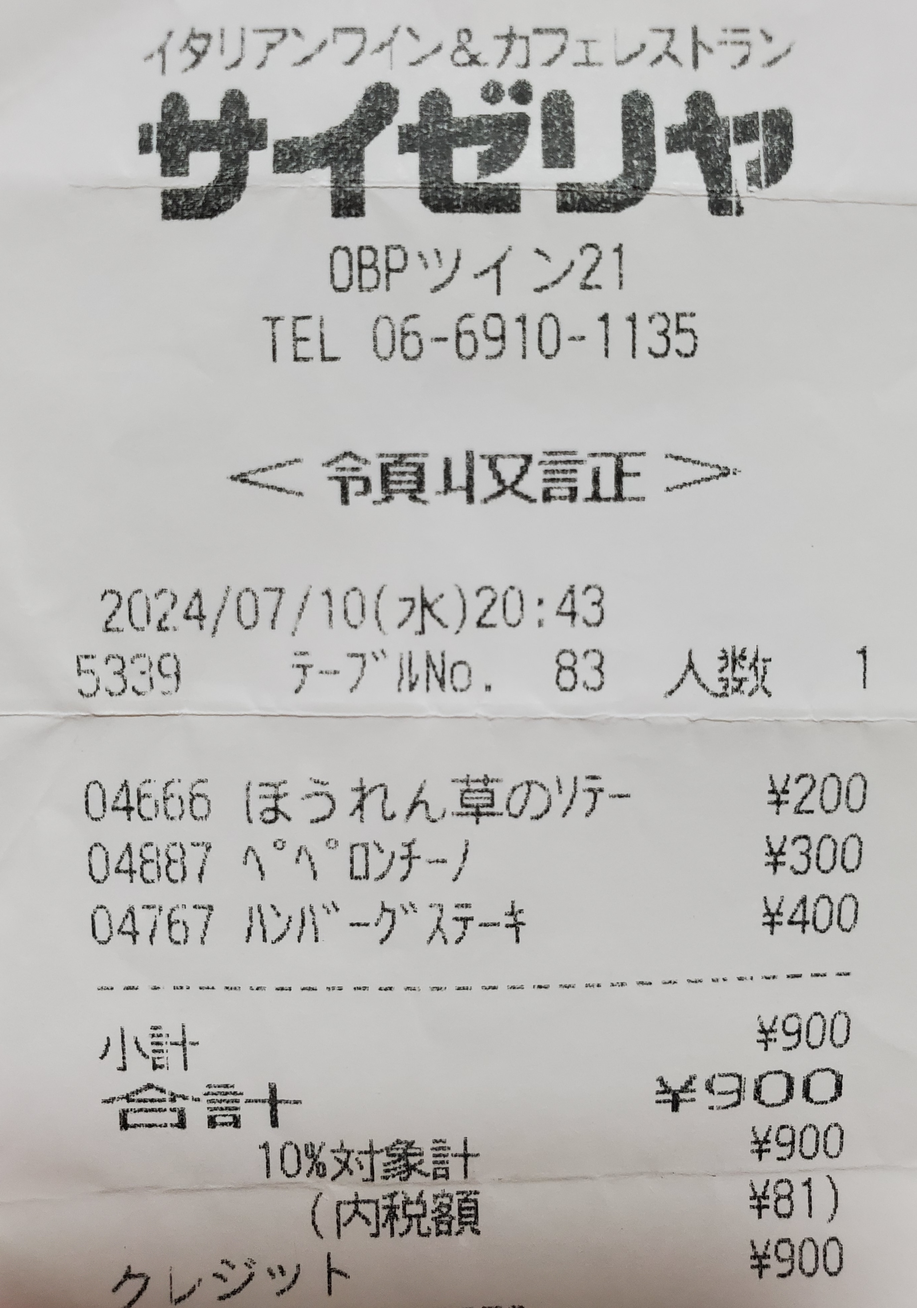Date: (88, 574, 381, 639)
Shopname: (45, 70, 847, 238)
Telnum: (357, 307, 717, 370)
Totalpay: (57, 1069, 860, 1128)
